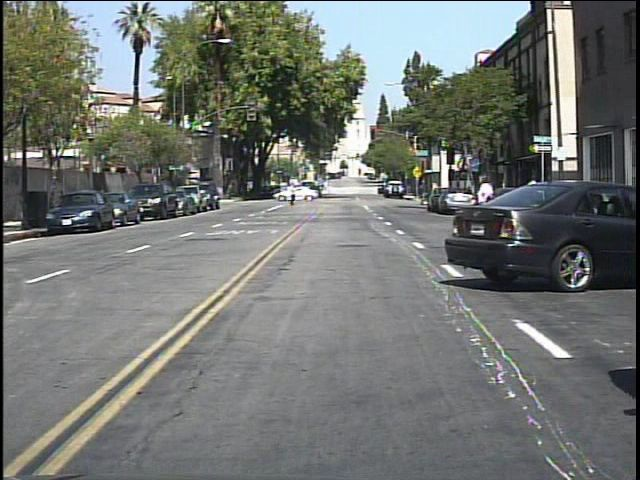person: (470, 166, 503, 245), (525, 169, 547, 219), (288, 177, 304, 210)
